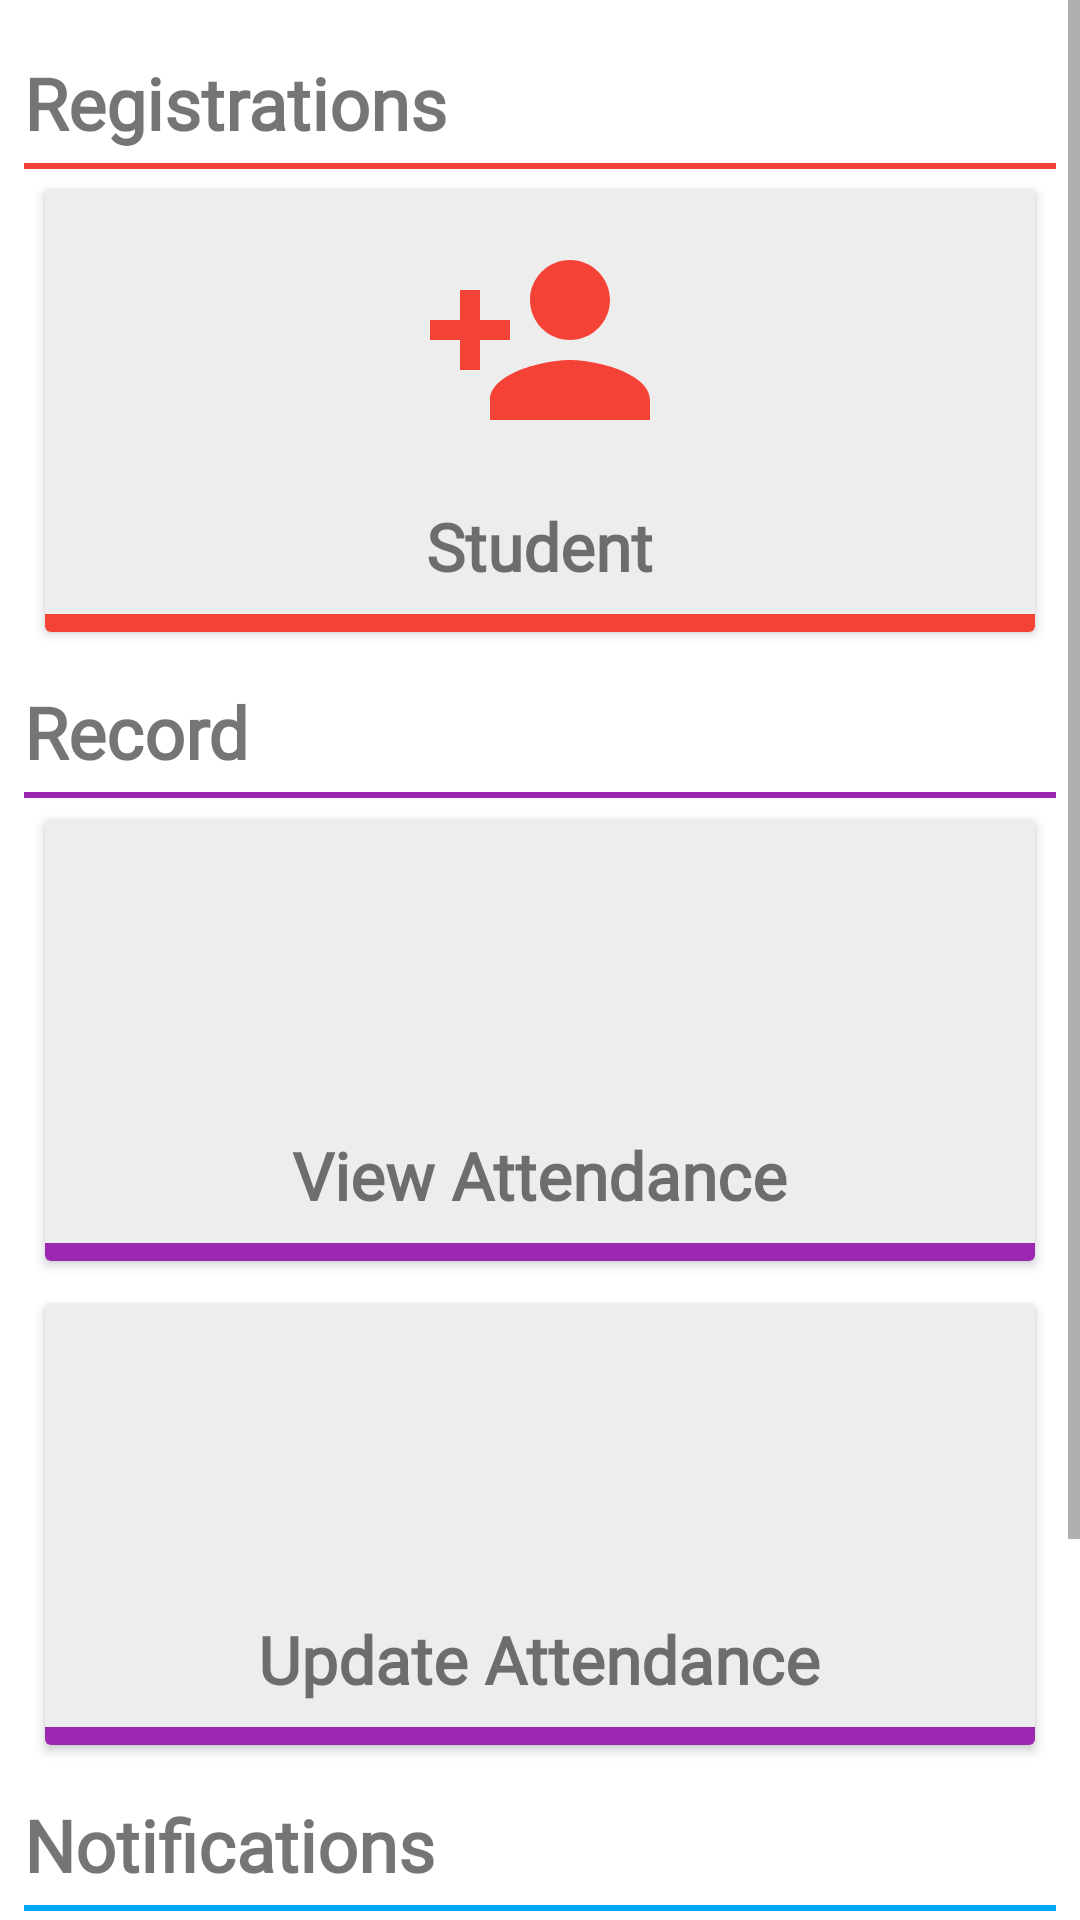

Named icons in this screenshot (1080 × 1920) and their bounding boxes, (x1, y1, x2, y2):
person add: (430, 260, 650, 420)
